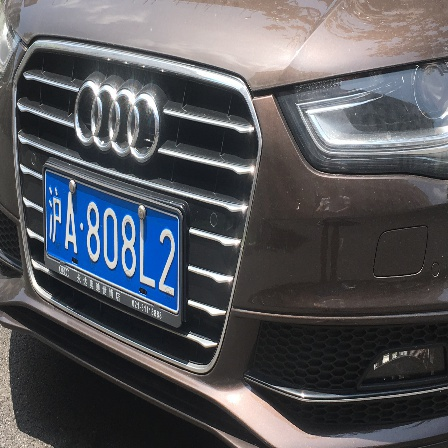plate: (36, 163, 186, 323)
